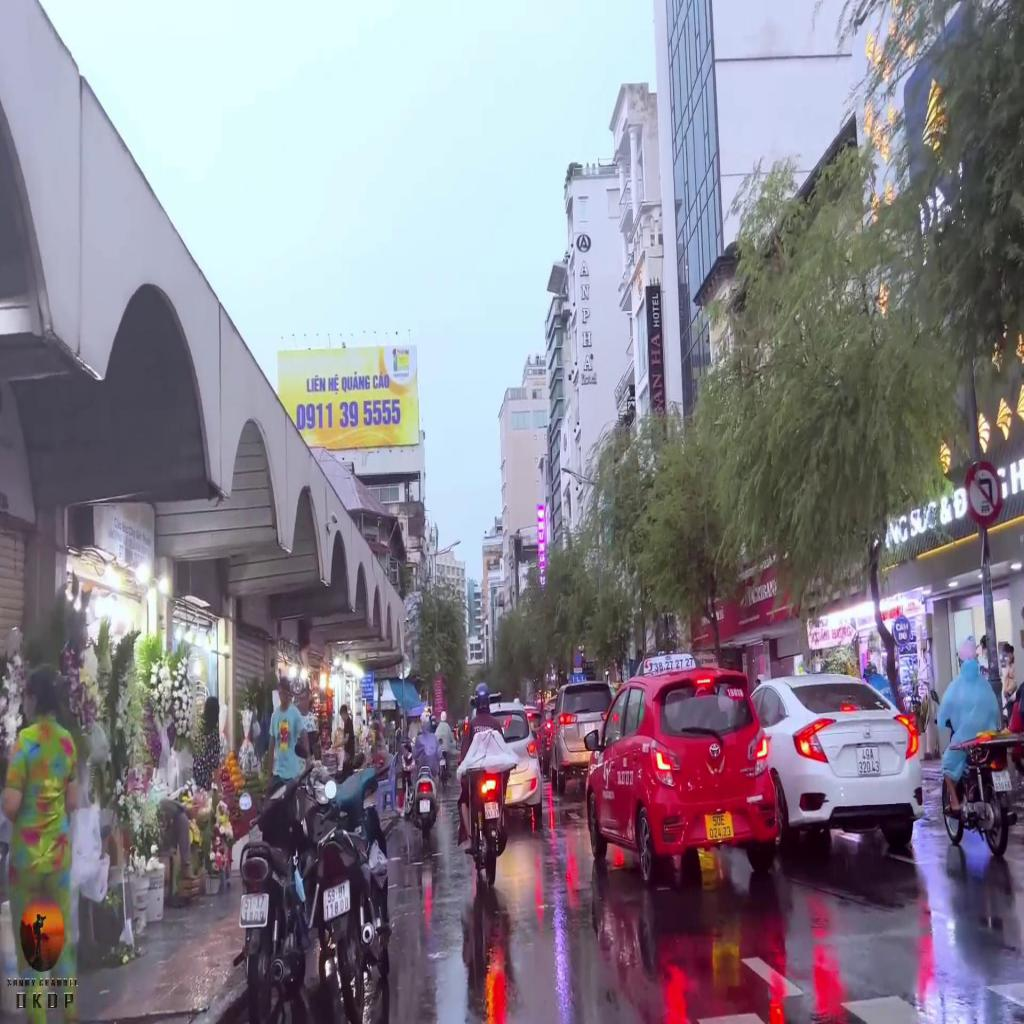cam_o_to_re_trai: (965, 462, 1004, 527)
